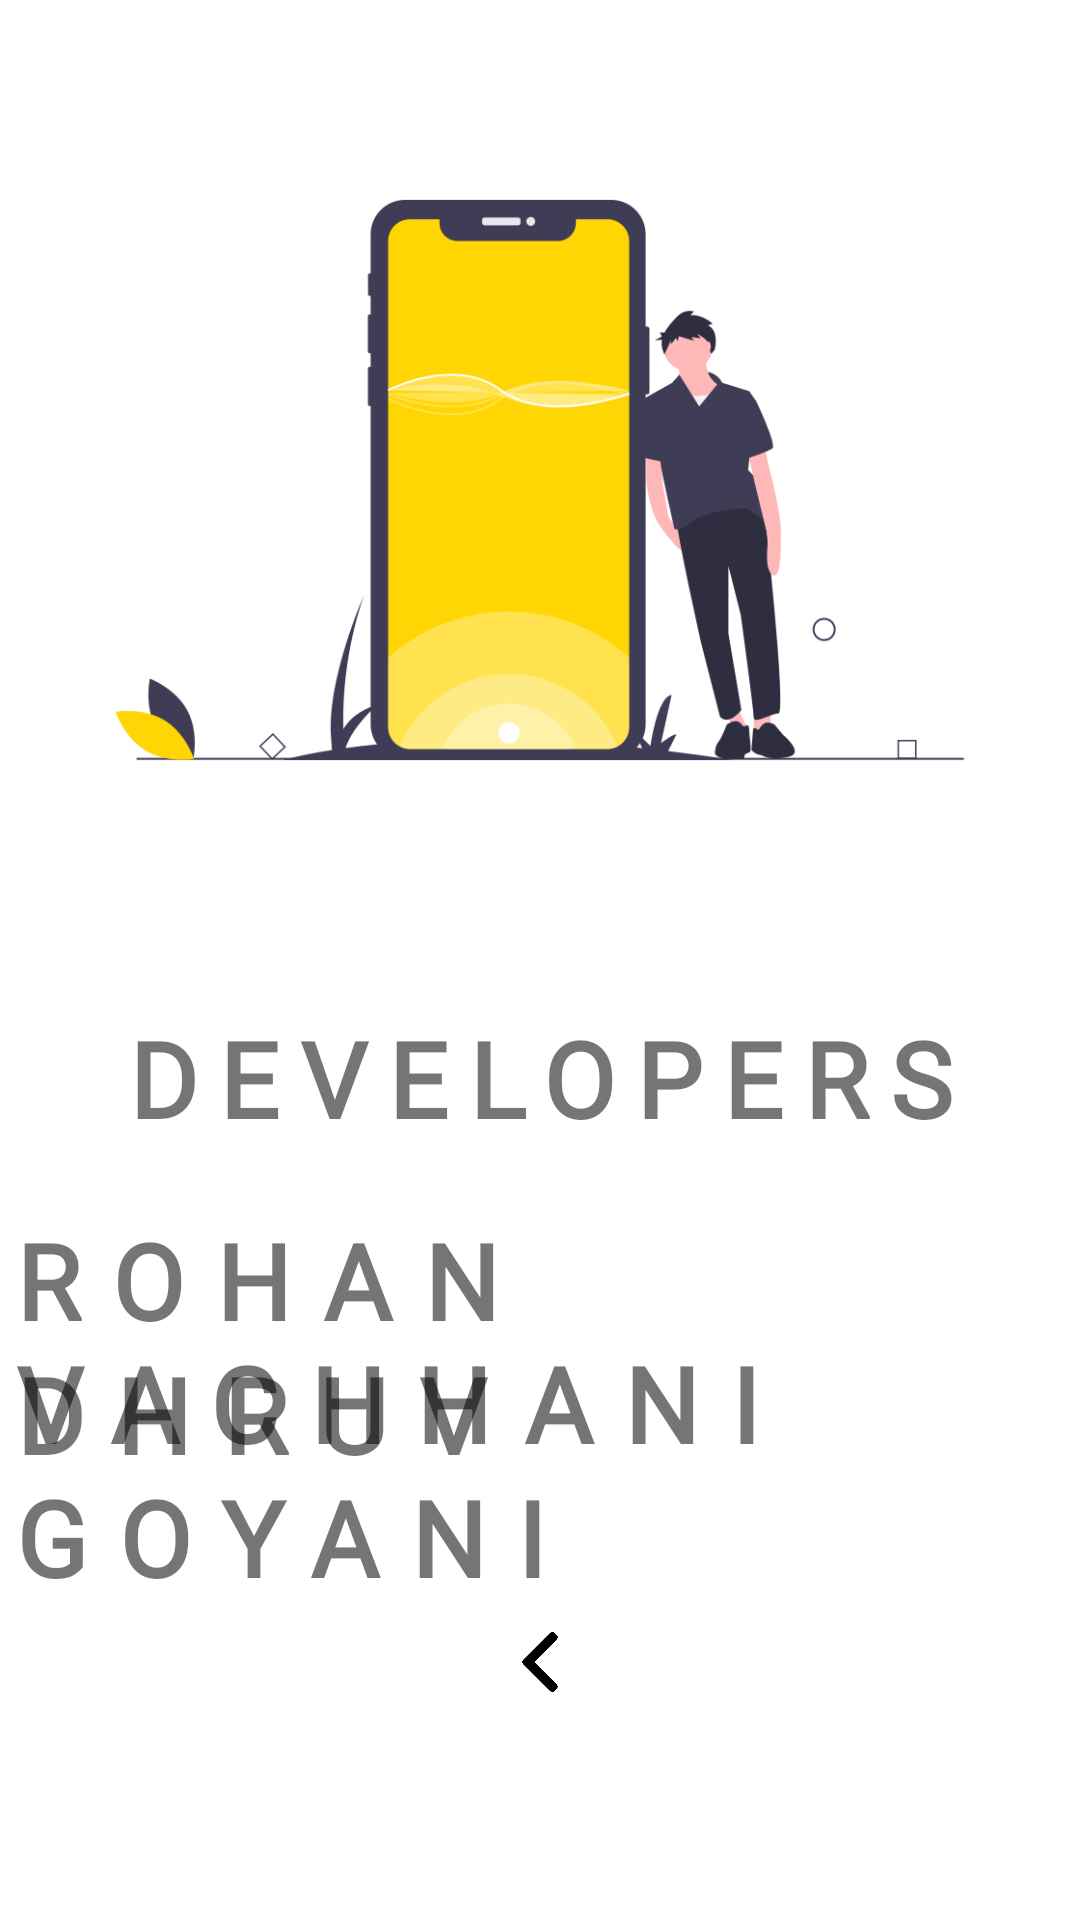

Screen size 1080px x 1920px. Icon name, then its center in pixels as (x=x, y=y):
back: (x=540, y=1662)
